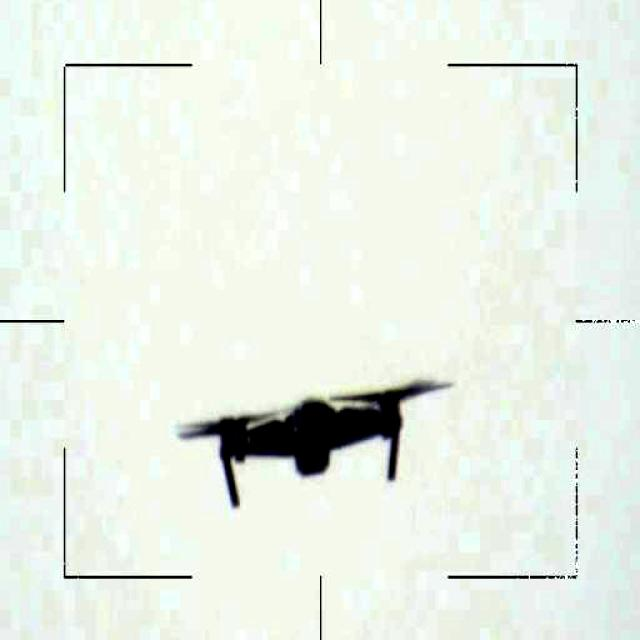bird: (174, 369, 455, 512)
